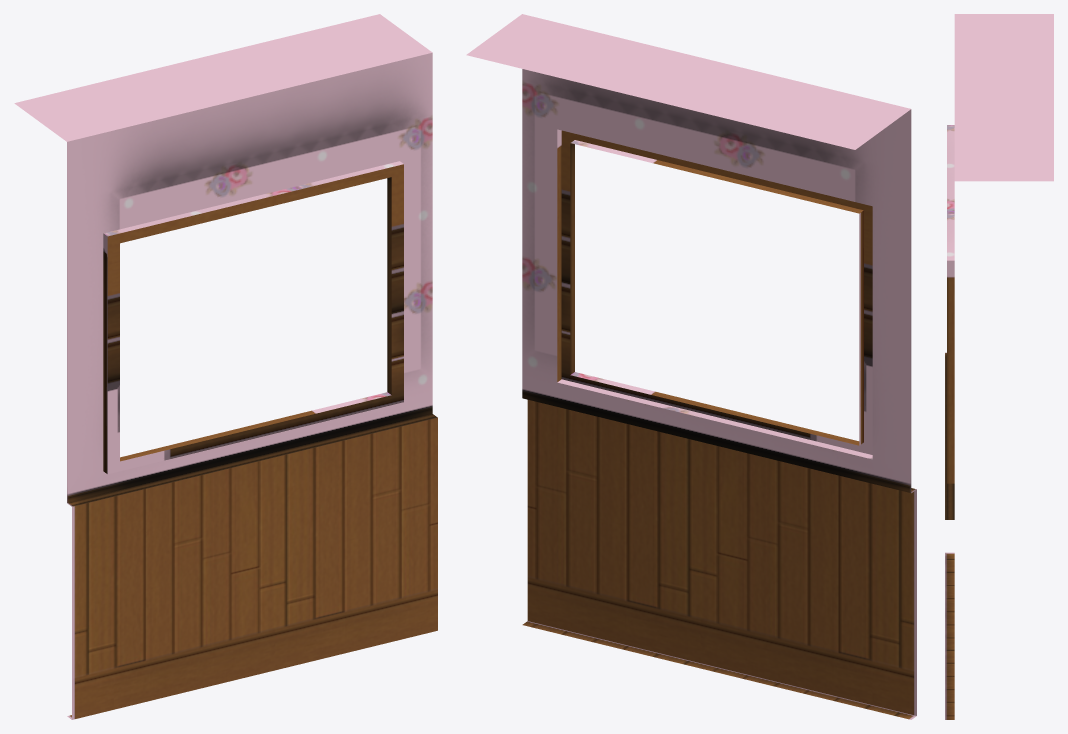
Rendered from Window3.fbx.
3 renders of one model, left to right at view 1: azimuth 30°, elevation 25°; view 2: azimuth 150°, elevation 25°; view 3: azimuth 270°, elevation 25°, orthographic. The views are drawn at different scales.
Parts seen in each view (by area): view 1: Window2; view 2: Window2; view 3: Window2.
Part boxes in pixels (x1,y1,x2,y2): Window2: [14, 14, 437, 719]; Window2: [466, 14, 916, 719]; Window2: [945, 14, 1053, 719].
Bounding box in the file's own units: 200 × 300 × 54.87.
